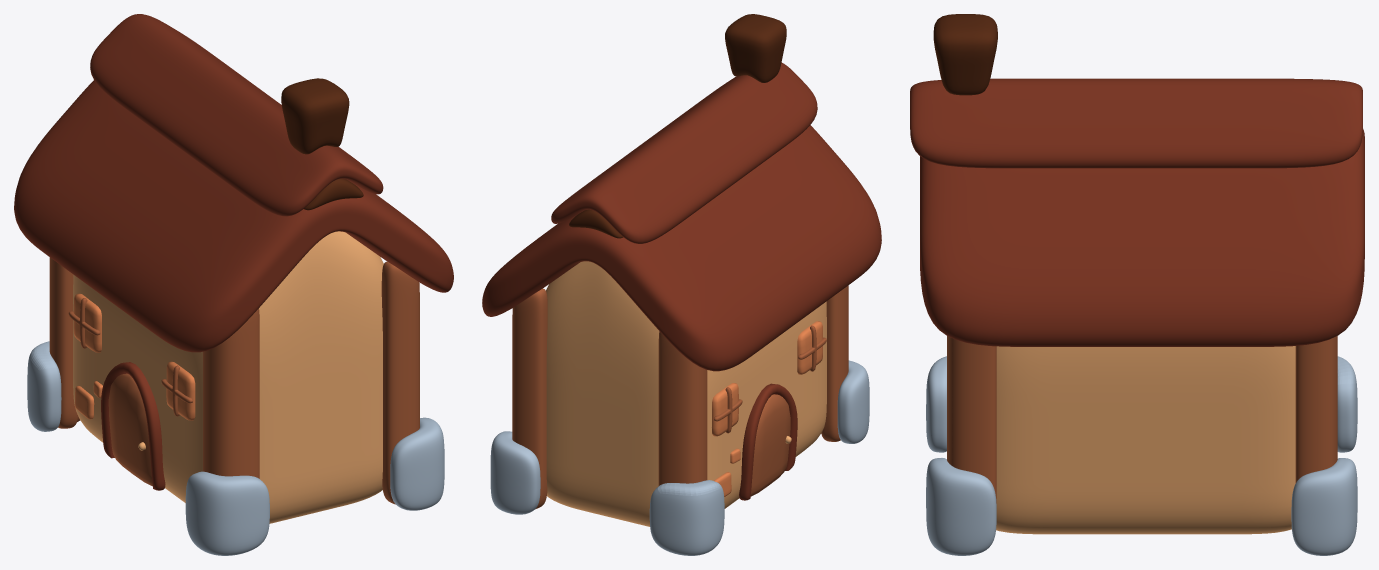
The model's file is grange_test.fbx.
The picture shows the model from 3 angles, left to right: view 1: azimuth 30°, elevation 25°; view 2: azimuth 150°, elevation 25°; view 3: azimuth 270°, elevation 25°; orthographic projection. The views are drawn at different scales.
Visible parts, largest first — view 1: Cube.006, base, Cube.007, poutres, pierr poutre, Cube.008, door.001, doorframe.001, window.002, window.001, Cube.009; view 2: Cube.006, base, Cube.007, poutres, pierr poutre, Cube.008, door.001, doorframe.001, window.001, window.002, Cube.009; view 3: Cube.006, base, Cube.007, pierr poutre, poutres, Cube.008.
Boxes of the visible parts, x1,y1,x2,y2 form: Cube.006: (14, 80, 453, 352); base: (73, 231, 383, 523); Cube.007: (90, 14, 383, 216); poutres: (49, 257, 419, 504); pierr poutre: (27, 341, 444, 555); Cube.008: (281, 78, 349, 154); door.001: (108, 373, 152, 486); doorframe.001: (101, 362, 165, 490); window.002: (166, 361, 195, 420); window.001: (73, 293, 101, 352); Cube.009: (304, 178, 363, 210); Cube.006: (482, 125, 881, 371); base: (546, 261, 826, 526); Cube.007: (551, 62, 817, 243); poutres: (512, 285, 848, 509); pierr poutre: (490, 360, 869, 555); Cube.008: (725, 14, 786, 82); door.001: (750, 394, 790, 496); doorframe.001: (739, 383, 797, 500); window.001: (712, 383, 738, 436); window.002: (797, 321, 822, 374); Cube.009: (569, 209, 623, 238); Cube.006: (920, 129, 1364, 346); base: (996, 346, 1295, 534); Cube.007: (910, 78, 1362, 168); pierr poutre: (926, 356, 1357, 555); poutres: (947, 336, 1337, 503); Cube.008: (933, 14, 997, 95).
Size of the model in its own units: 418 by 636 by 549.
